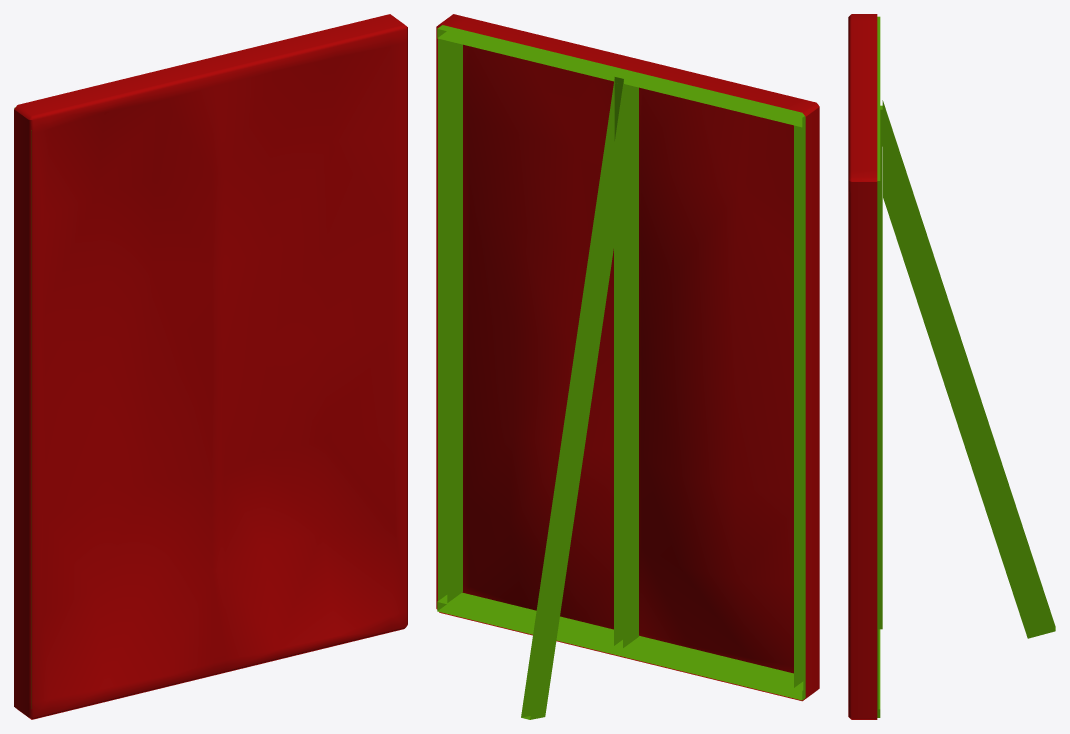
File: SM_partition.fbx
3 renders of one model, left to right at view 1: azimuth 30°, elevation 25°; view 2: azimuth 150°, elevation 25°; view 3: azimuth 270°, elevation 25°, orthographic. The views are drawn at different scales.
Visible parts, largest first — view 1: SmartCombine_1; view 2: SmartCombine_1; view 3: SmartCombine_1.
Part boxes in pixels (x1,y1,x2,y2): SmartCombine_1: (14,14,407,719); SmartCombine_1: (436,14,819,719); SmartCombine_1: (848,14,1055,719).
Bounding box in the file's own units: 202 × 308 × 107.
